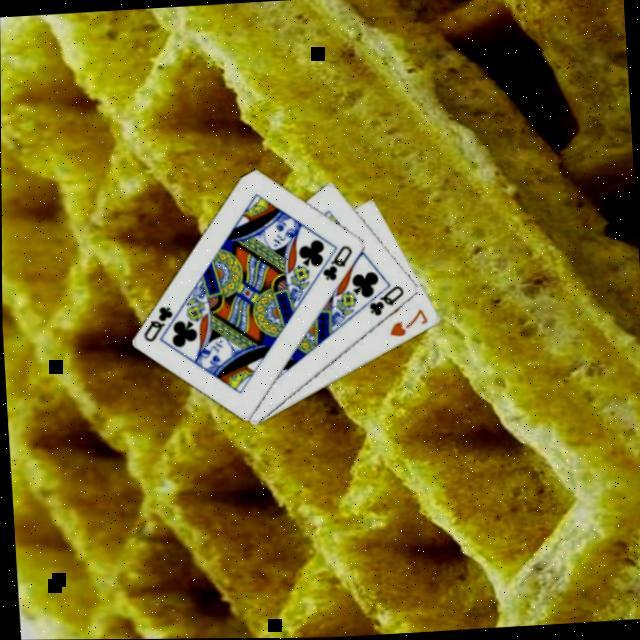7H: (383, 305, 431, 339)
QC: (316, 239, 356, 282), (137, 301, 177, 343), (363, 280, 407, 318)
